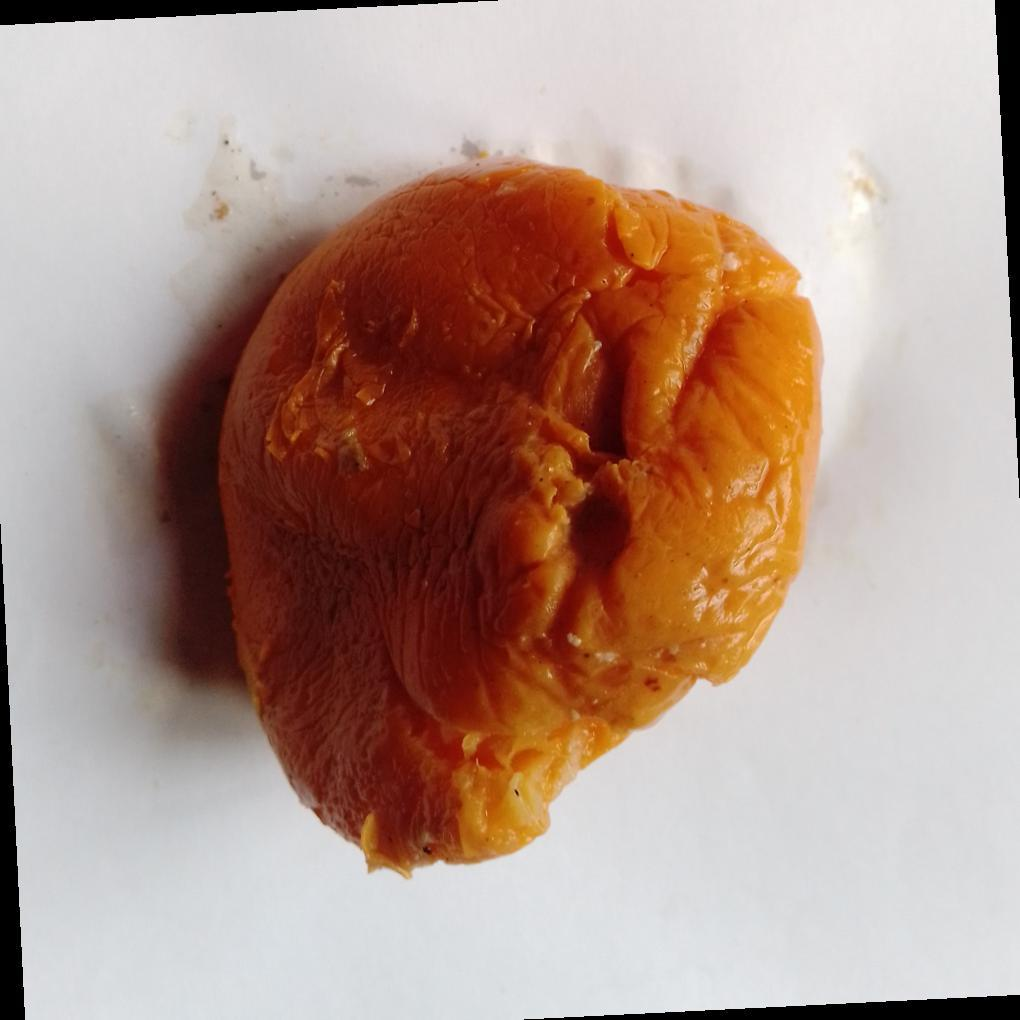FreshOrange: (213, 162, 824, 881)
